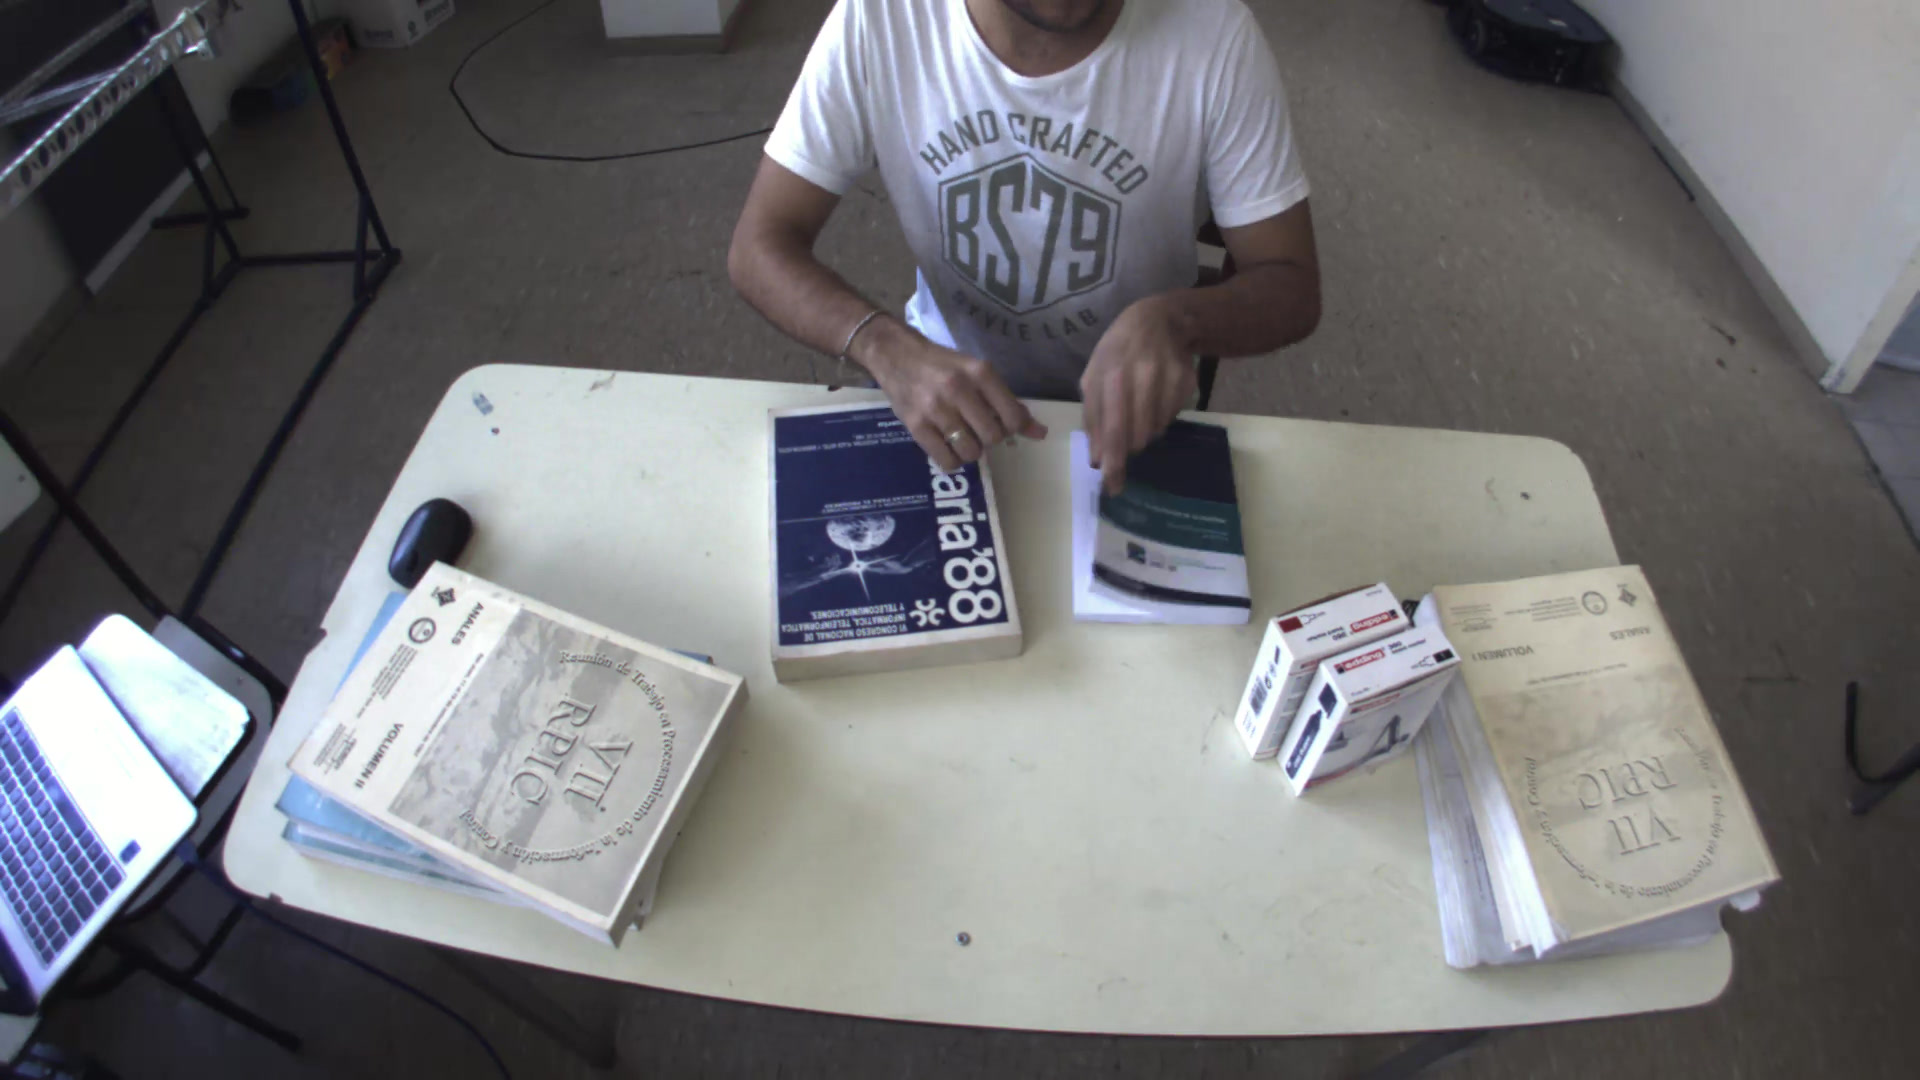hand: (858, 332, 1040, 469), (1073, 286, 1207, 471)
